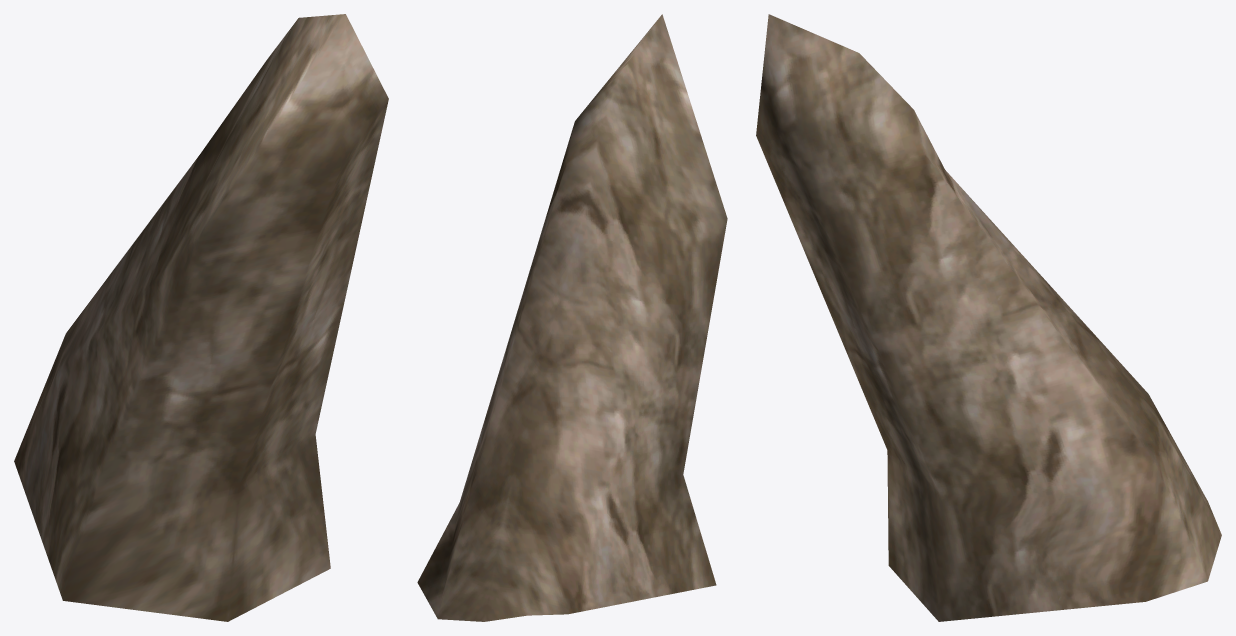
Rendered from OVERHILL_A_01_ROCK38.fbx.
3 views of the same model, side by side, from view 1: azimuth 30°, elevation 25°; view 2: azimuth 150°, elevation 25°; view 3: azimuth 270°, elevation 25° (orthographic). The views are drawn at different scales.
Visible parts, largest first — view 1: OVERHILL_A_01_ROCK38; view 2: OVERHILL_A_01_ROCK38; view 3: OVERHILL_A_01_ROCK38.
Part boxes in pixels (x1,y1,x2,y2): OVERHILL_A_01_ROCK38: [14, 14, 388, 621]; OVERHILL_A_01_ROCK38: [417, 14, 727, 621]; OVERHILL_A_01_ROCK38: [756, 14, 1221, 621].
Size of the model in its own units: 28119 by 61268 by 45101.
Materials: 1 (1 with a texture image).
